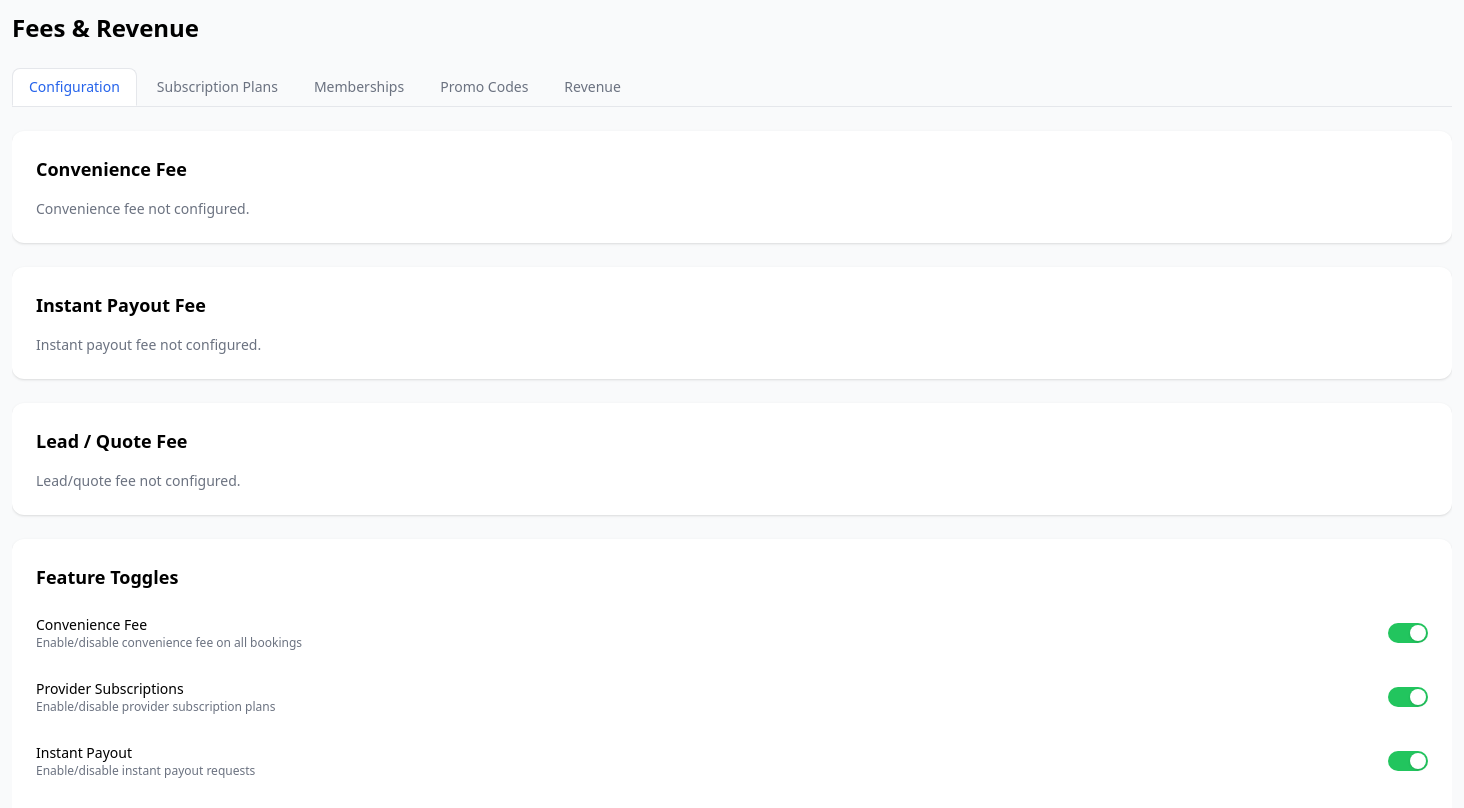
Fees Page › switches to subscription plans tab
Click the button "Subscription Plans": (217, 87) [141,68,294,106]
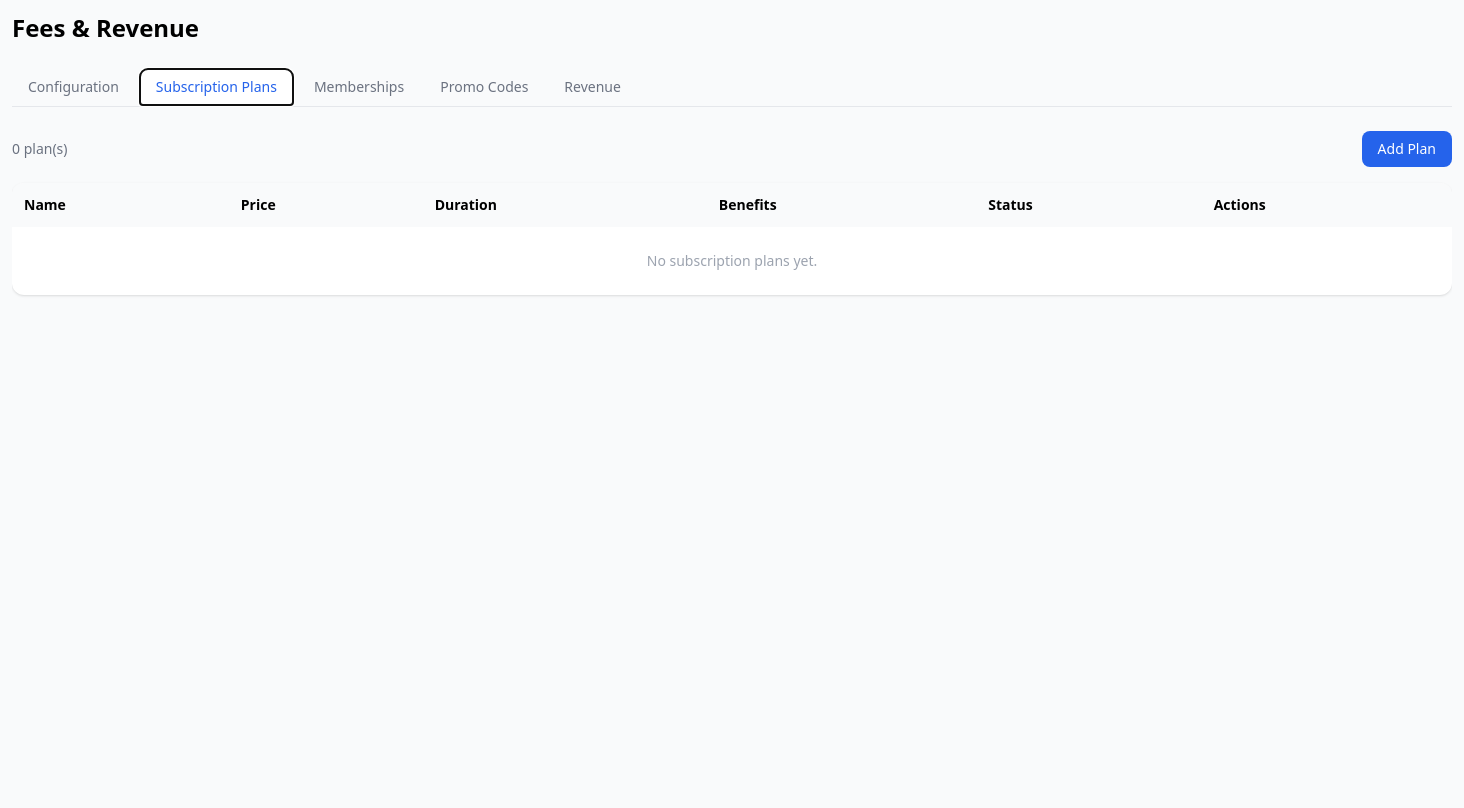
Expected: the text "0 plan(s)" is shown, [12,139,68,159]
